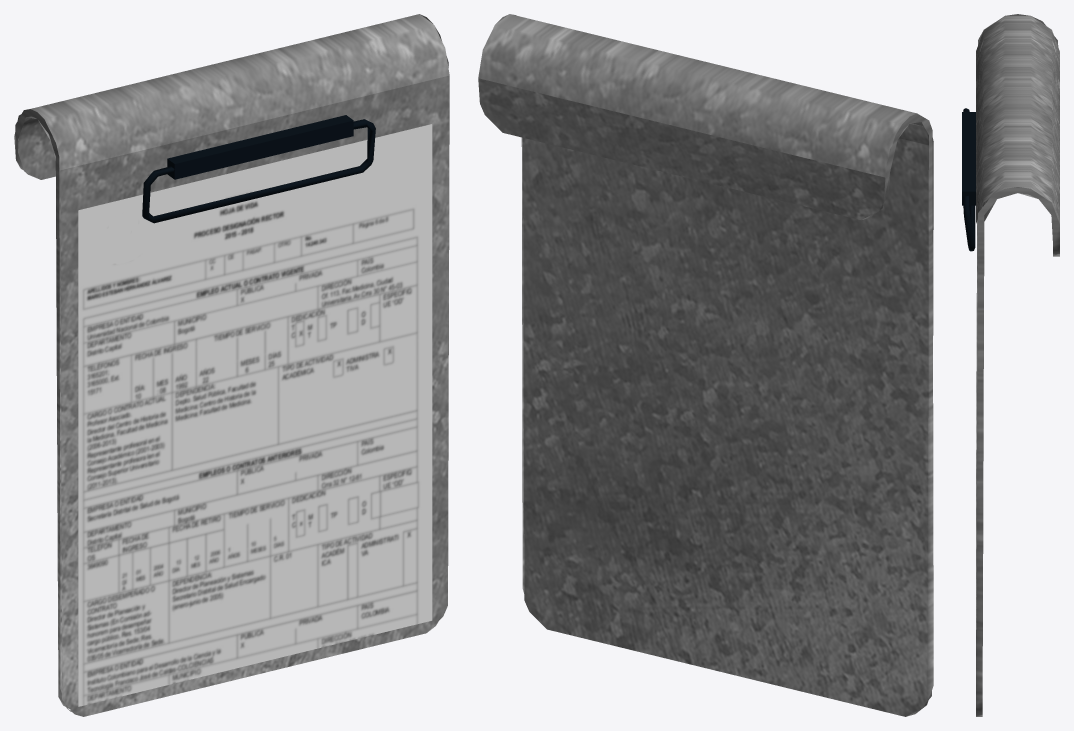
File: Clipboard.FBX
3 renders of one model, left to right at view 1: azimuth 30°, elevation 25°; view 2: azimuth 150°, elevation 25°; view 3: azimuth 270°, elevation 25°, orthographic. The views are drawn at different scales.
Parts seen in each view (by area): view 1: clipboard; view 2: clipboard; view 3: clipboard.
Part boxes in pixels (<box>): clipboard: <box>14,14,449,716</box>; clipboard: <box>478,14,933,716</box>; clipboard: <box>962,14,1059,716</box>.
Size of the model in its own units: 259 by 61.83 by 377.
1 material, 1 textured.
